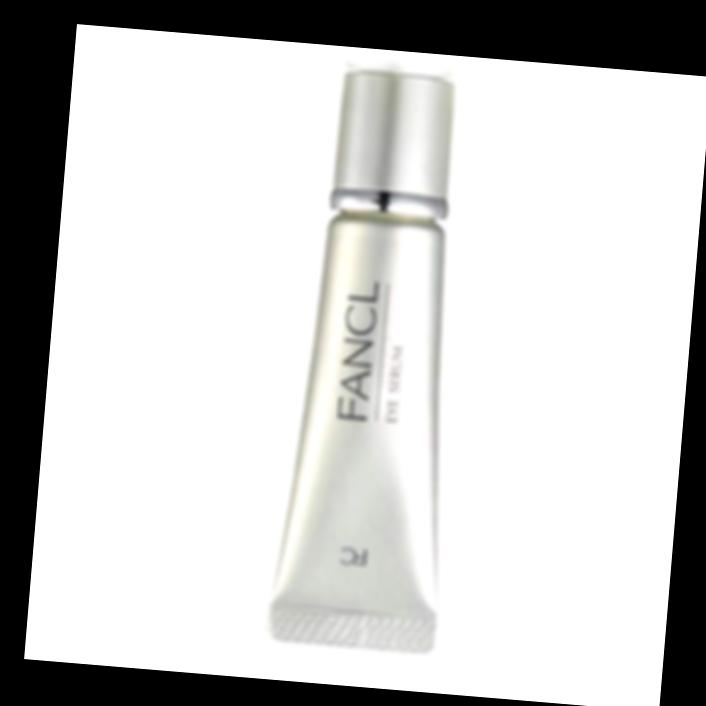cosmetic: (277, 66, 480, 657)
